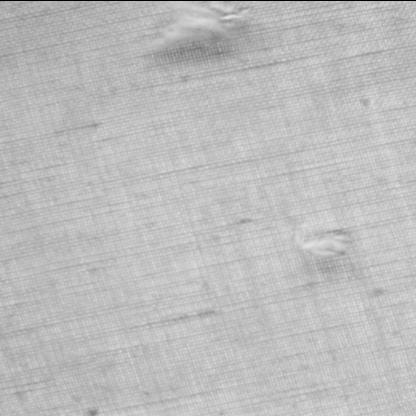objects: (154, 0, 256, 54), (290, 218, 356, 260)
